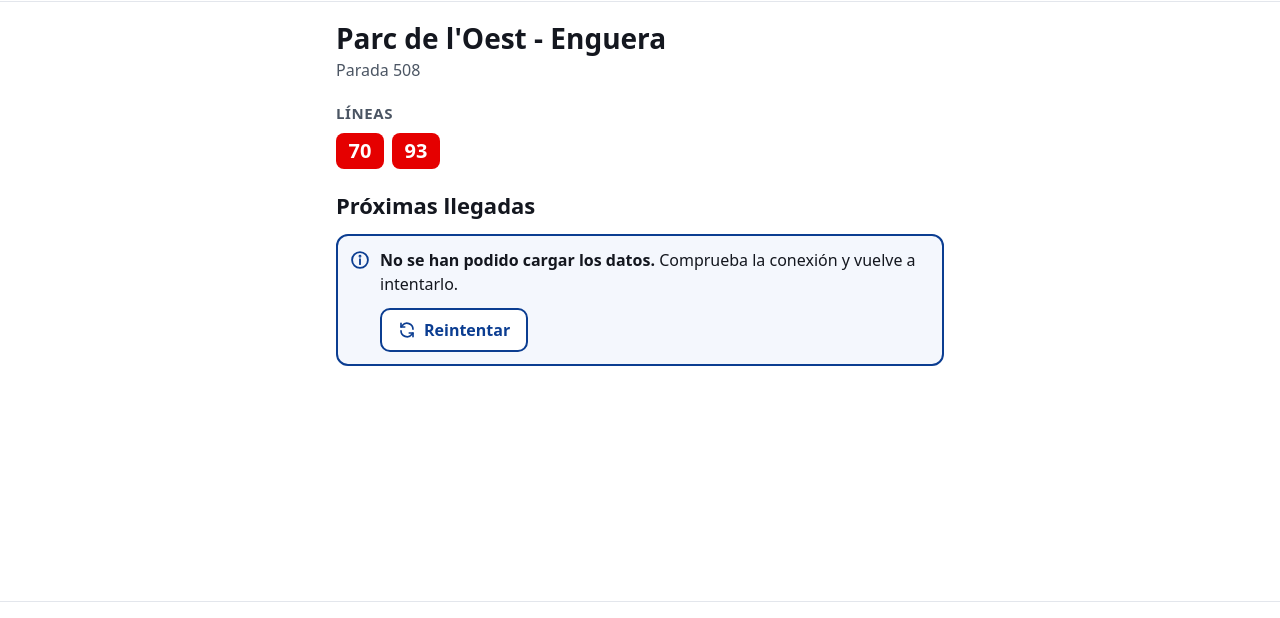
Test: StopPage errors and connectivity › [passenger_stop_view.AC-17] a 503 while loading the arrivals shows a message with "Reintentar"
Check: the text "No se han podido cargar los datos." is shown, box [380, 249, 655, 271]
Click the button "Reintentar": [454, 330] box [380, 308, 528, 352]
(page scrolled)
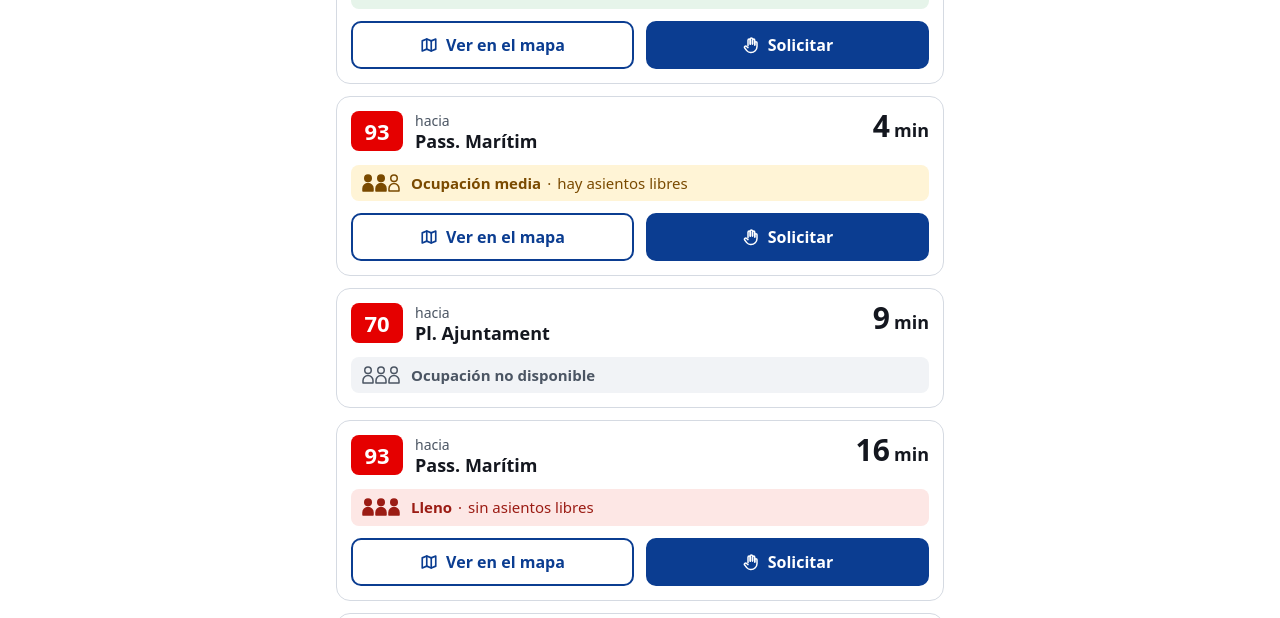
Check: the text "No se han podido cargar los datos." is gone
Check: the button "Reintentar" is gone
